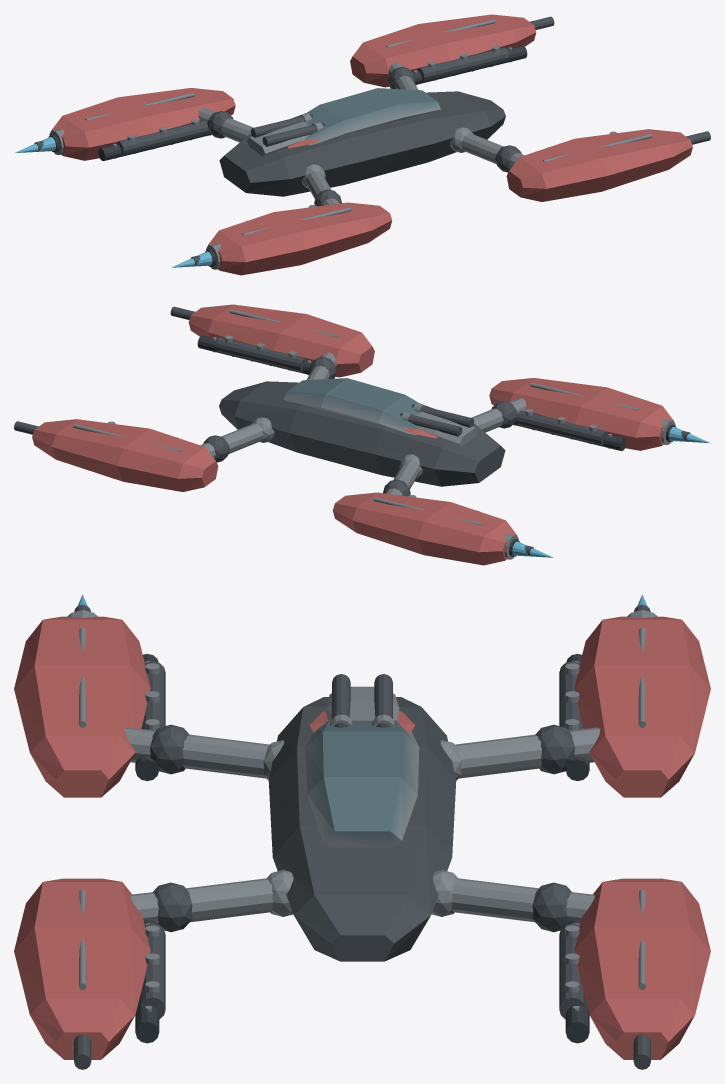
Rendered from x5_red_rig.glb.
3 views of the same model, one above another, from view 1: azimuth 30°, elevation 25°; view 2: azimuth 150°, elevation 25°; view 3: azimuth 270°, elevation 25° (orthographic). The views are drawn at different scales.
Visible parts, largest first — view 1: center_hull_0, pod_rear_right, pod_rear_left, pod_front_right, pod_front_left, cabin_base_1, arm_front_right, arm_rear_left, missile_body_3, arm_rear_right, launcher_saddle_2, arm_front_left; view 2: center_hull_0, pod_rear_left, pod_rear_right, pod_front_left, pod_front_right, cabin_base_1, arm_front_left, arm_rear_right, missile_body_3, arm_rear_left, launcher_saddle_2, arm_front_right; view 3: center_hull_0, pod_front_right, pod_front_left, pod_rear_right, pod_rear_left, cabin_base_1, arm_front_right, arm_front_left, arm_rear_left, arm_rear_right, missile_body_3, launcher_saddle_2.
Part boxes in pixels (box(x1,y1,x2,y2)): center_hull_0: box(219, 91, 505, 196); pod_rear_right: box(171, 202, 392, 275); pod_rear_left: box(14, 88, 235, 160); pod_front_right: box(506, 129, 710, 201); pod_front_left: box(350, 14, 554, 87); cabin_base_1: box(305, 88, 440, 145); arm_front_right: box(450, 127, 524, 172); arm_rear_left: box(198, 108, 253, 142); missile_body_3: box(250, 115, 323, 146); arm_rear_right: box(302, 164, 341, 206); launcher_saddle_2: box(247, 121, 309, 156); arm_front_left: box(388, 62, 418, 89); center_hull_0: box(219, 381, 505, 486); pod_rear_left: box(332, 492, 553, 565); pod_rear_right: box(489, 378, 710, 450); pod_front_left: box(14, 419, 218, 491); pod_front_right: box(170, 304, 374, 377); cabin_base_1: box(284, 378, 420, 435); arm_front_left: box(200, 417, 274, 462); arm_rear_right: box(471, 398, 526, 432); missile_body_3: box(401, 405, 474, 436); arm_rear_left: box(383, 454, 422, 496); launcher_saddle_2: box(415, 411, 477, 446); arm_front_right: box(306, 352, 336, 379); center_hull_0: box(268, 697, 456, 961); pod_front_right: box(14, 878, 165, 1069); pod_front_left: box(559, 878, 710, 1069); pod_rear_right: box(14, 594, 165, 797); pod_rear_left: box(559, 594, 710, 797); cabin_base_1: box(305, 720, 419, 847); arm_front_right: box(130, 870, 293, 932); arm_front_left: box(431, 870, 594, 932); arm_rear_left: box(440, 724, 600, 780); arm_rear_right: box(125, 724, 284, 780); missile_body_3: box(332, 674, 392, 726); launcher_saddle_2: box(325, 686, 399, 723).
Bounding box in the file's own units: 8.41 × 0.9 × 5.28.
